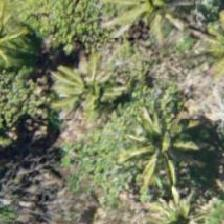coconut_tree: (110, 110, 200, 200), (106, 0, 196, 50)
